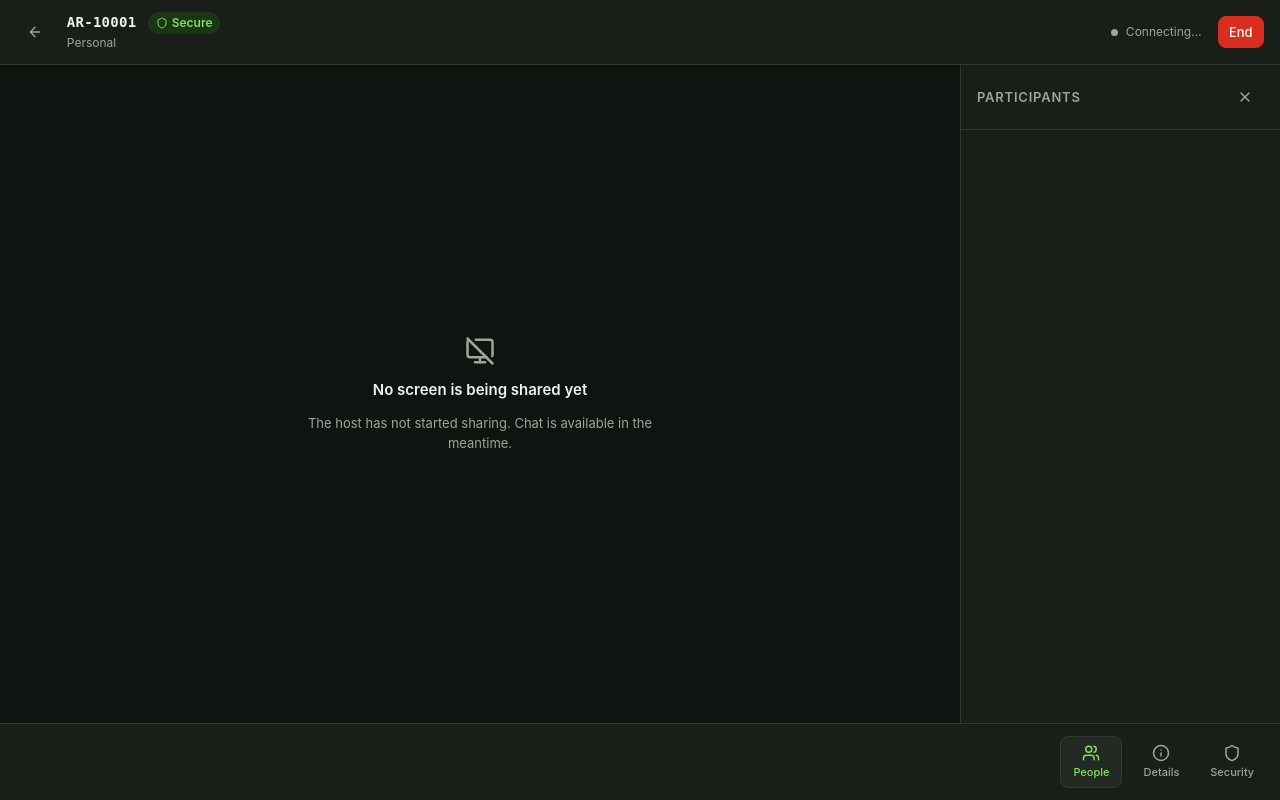
the room header › says so when ending the session failed
Click the button "End": click(1241, 32) top-left (1218, 16), bottom-right (1264, 48)
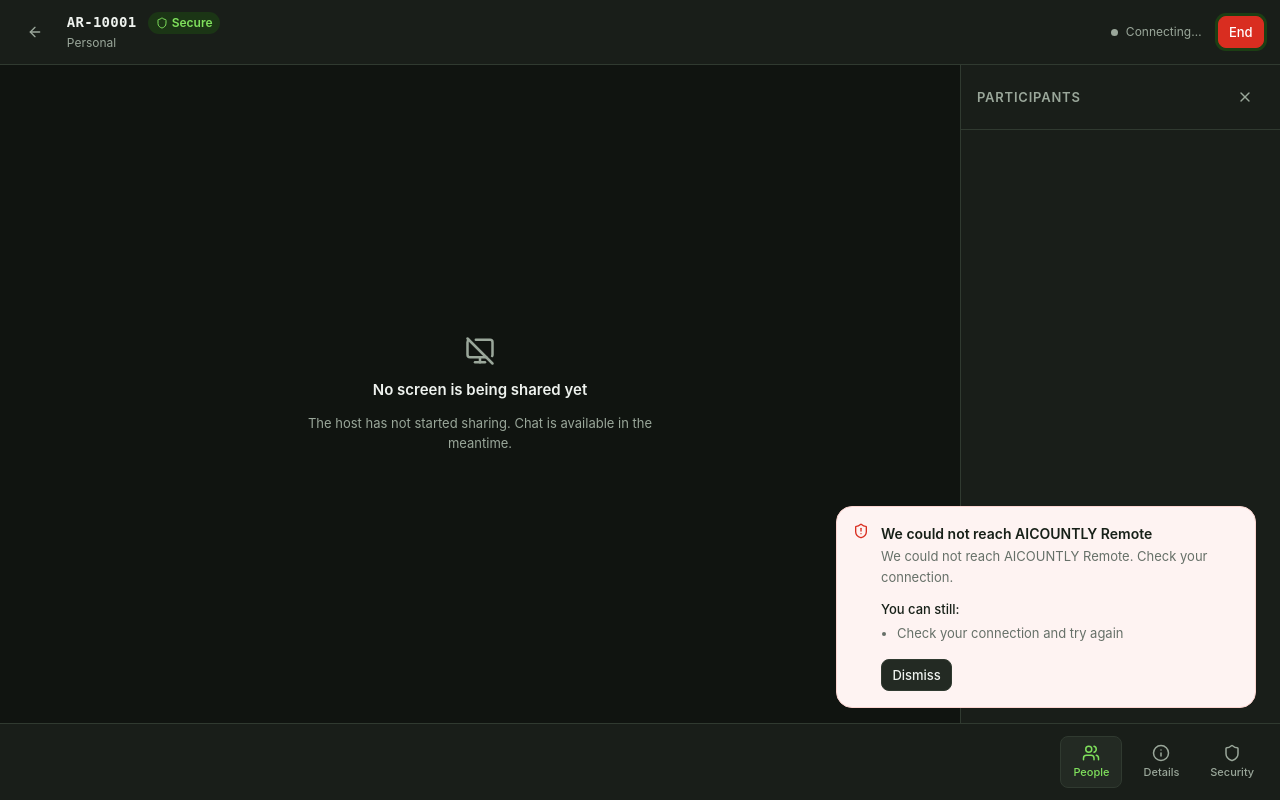
Now the text "We could not reach AICOUNTLY Remote. Check your connection." is shown, box top-left (881, 546), bottom-right (1239, 587)
